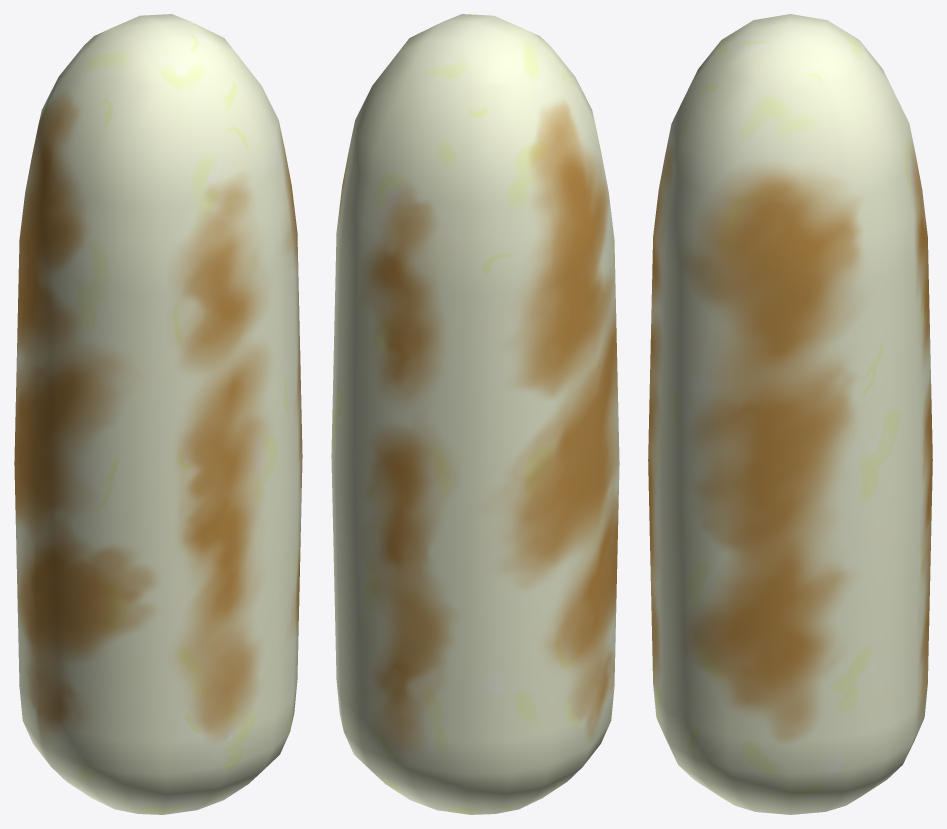
Rendered from KIRITANPO.fbx.
3 views of the same model, side by side, from view 1: azimuth 30°, elevation 25°; view 2: azimuth 150°, elevation 25°; view 3: azimuth 270°, elevation 25° (orthographic).
Visible parts, largest first — view 1: pCube1; view 2: pCube1; view 3: pCube1.
Boxes of the visible parts, x1=… form: pCube1: x1=14, y1=14, x2=302, y2=814; pCube1: x1=331, y1=14, x2=619, y2=814; pCube1: x1=648, y1=14, x2=932, y2=814.
Bounding box in the file's own units: 288 × 860 × 288.
